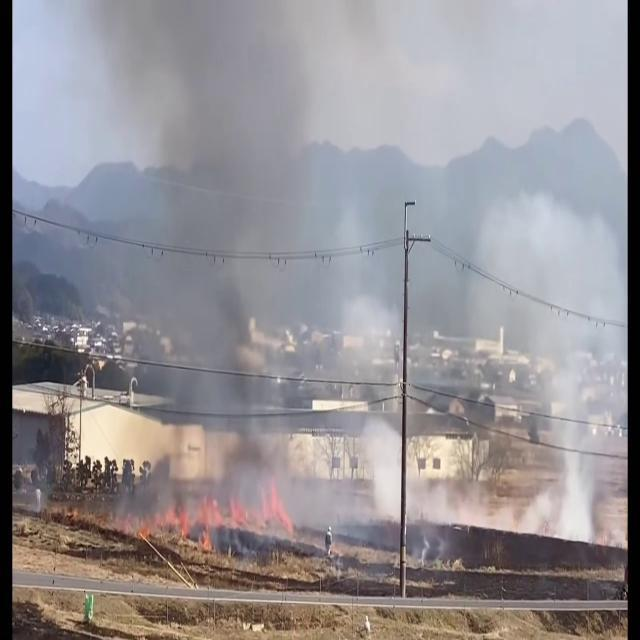Smoke: (55, 0, 346, 551), (368, 0, 610, 528)
